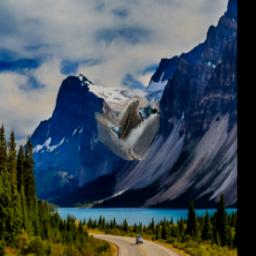Swallow: (95, 96, 160, 161)
